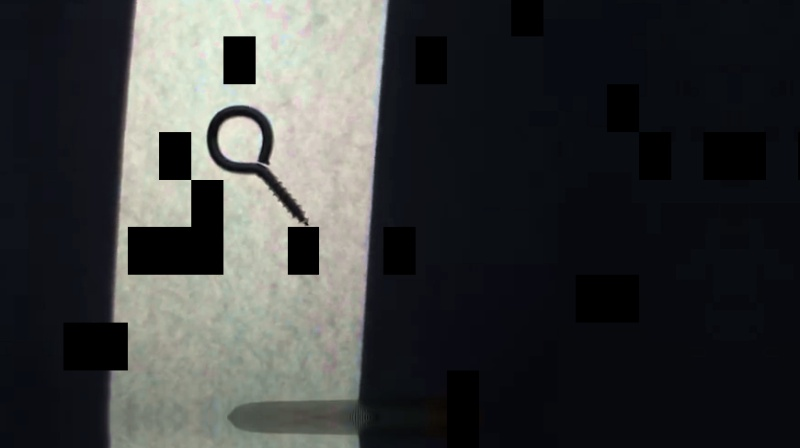O001: (203, 103, 312, 232)
